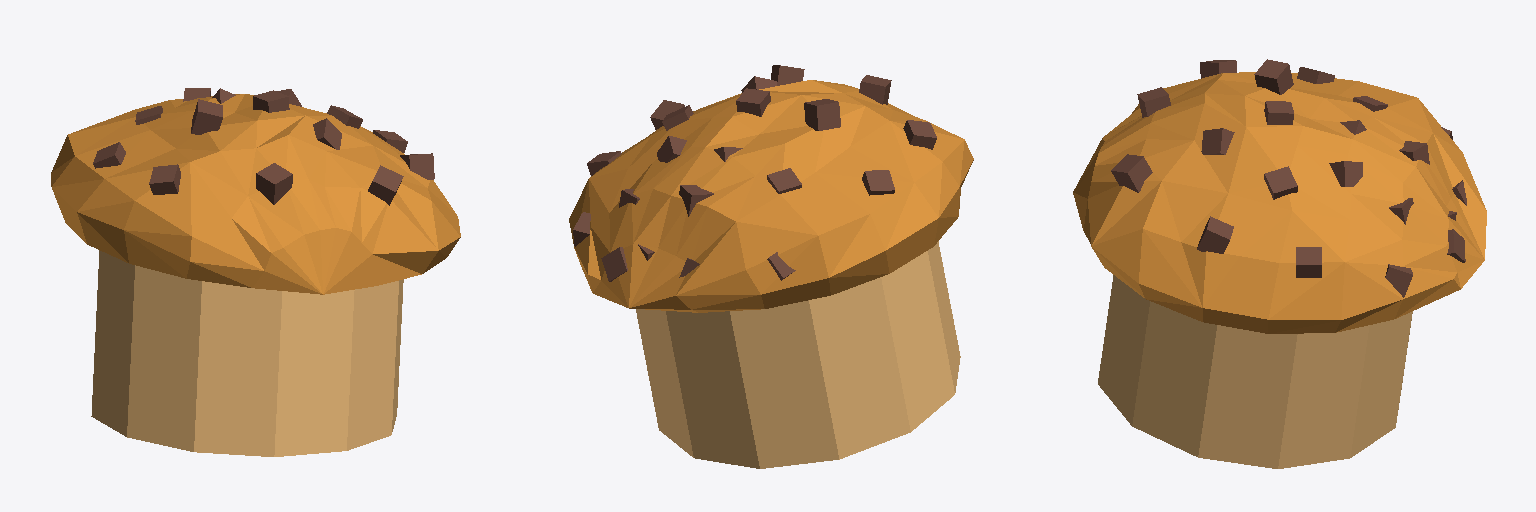
3 views of the same model, side by side, from view 1: azimuth 30°, elevation 25°; view 2: azimuth 150°, elevation 25°; view 3: azimuth 270°, elevation 25° (orthographic).
Visible parts, largest first — view 1: group[number redacted]; view 2: group[number redacted]; view 3: group[number redacted].
Part boxes in pixels (x1,y1,x2,y2): group[number redacted]: (51,88,460,456); group[number redacted]: (569,65,973,468); group[number redacted]: (1073,59,1486,468).
Bounding box in the file's own units: 0.1546 × 0.1405 × 0.1584.